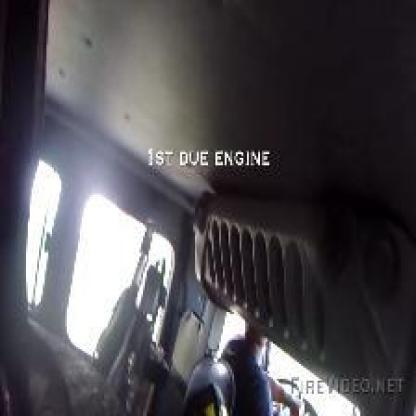other: (82, 192, 127, 321)
